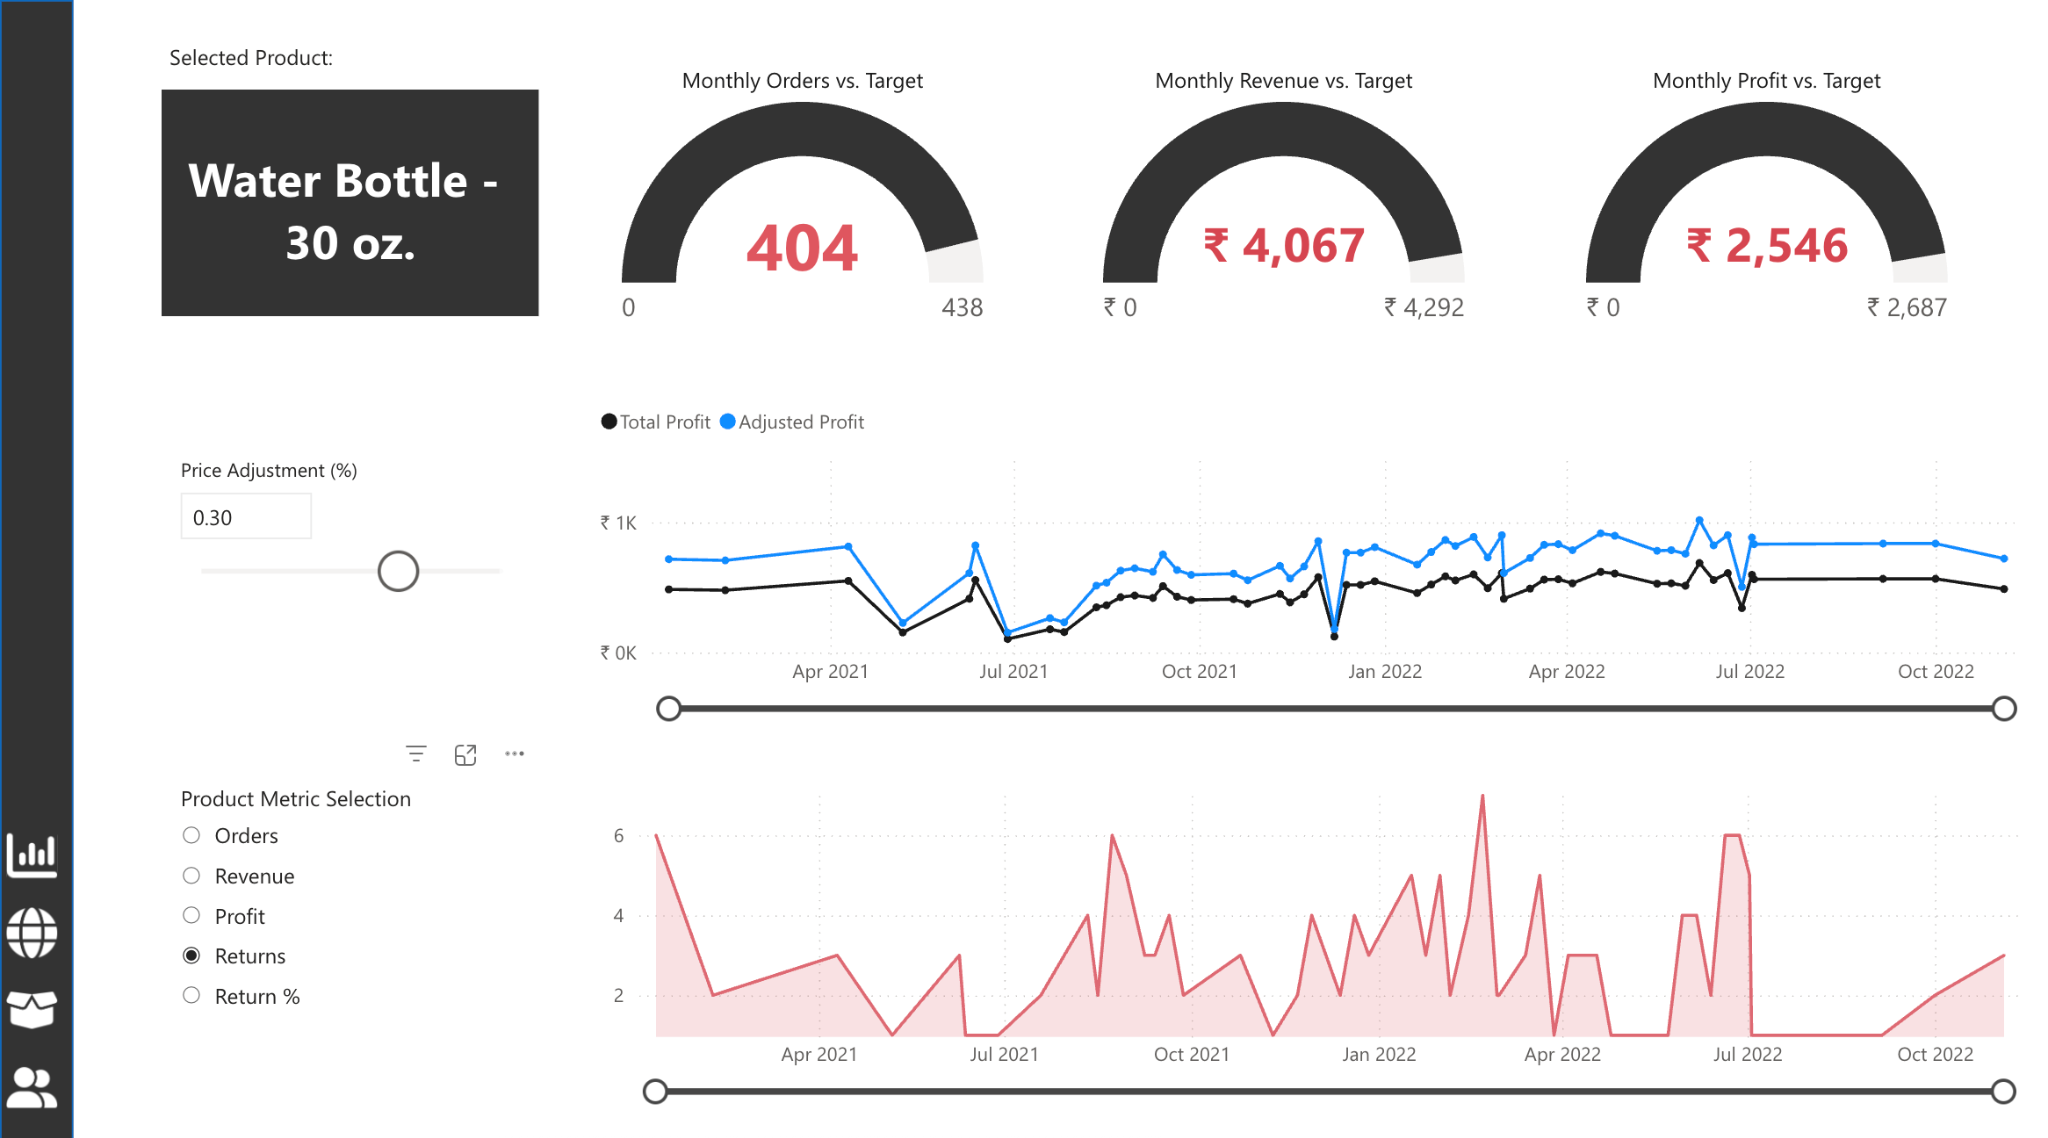

This screenshot's page, from the dashboard's own definition file:
{"tool":"powerbi","page":{"name":"Product Details","canvas":[1280,720],"ordinal":6},"visuals":[{"type":"shape","box":[0,0,45.8,719],"z":0},{"type":"actionButton","box":[0,513.9,45.8,39.8],"z":1000,"group":"g1"},{"type":"gauge","title":"Monthly Orders vs.  Target","fields":{"Y":["Measure Table.Total Orders"],"MaxValue":["Measure Table.Order Target"]},"box":[378.4,40.9,245.6,172.4],"z":1000},{"type":"gauge","title":"Monthly Revenue vs. Target","fields":{"Y":["Measure Table.Total Revenue"],"MaxValue":["Measure Table.Revenue Target"]},"box":[679.2,40.9,245.6,172.4],"z":2000},{"type":"actionButton","box":[0,610.4,45.8,39.8],"z":2000,"group":"g1"},{"type":"gauge","title":"Monthly Profit  vs.  Target","fields":{"MaxValue":["Measure Table.Profit Target"],"Y":["Measure Table.Total Profit"]},"box":[980,40.9,245.6,172.4],"z":3000},{"type":"actionButton","box":[0,658.7,45.8,39.8],"z":3000,"group":"g1"},{"type":"actionButton","box":[0,562.2,45.8,39.8],"z":4000,"group":"g1"},{"type":"lineChart","title":"Profit Trending","fields":{"Category":["Calendar Lookup.Date Hierarchy.Start of Year","Calendar Lookup.Date Hierarchy.Start of Month","Calendar Lookup.Date Hierarchy.Start of Week"],"Y":["Measure Table.Total Profit","Measure Table.Adjusted Profit"]},"box":[369.2,243.7,910.9,209.9],"z":4000},{"type":"areaChart","title":"Return Trending","fields":{"Y":["Measure Table.Return Rate"],"Category":["Calendar Lookup.Date Hierarchy.Start of Year","Calendar Lookup.Date Hierarchy.Start of Month","Calendar Lookup.Date Hierarchy.Start of Week"]},"box":[369.2,482.6,910.9,209.9],"z":5000},{"type":"card","fields":{"Values":["Min(Product Lookup.ProductName)"]},"box":[100.5,55.8,235.7,141.4],"z":6000},{"type":"textbox","box":[100.5,21.1,207.2,39.7],"z":7000},{"type":"group","id":"g1","title":"Navigation Buttons","box":[0,513.9,45.8,184.6],"z":8000},{"type":"slicer","fields":{"Values":["Price Adjustment (%).Price Adjustment (%)"]},"box":[100.1,279.9,235.3,137.5],"z":9000},{"type":"slicer","fields":{"Values":["Product Metric Selection.Product Metric Selection"]},"box":[100.1,483.8,235.3,158],"z":10000}]}

Visuals, with their boxes on the page's 1280x720 design canvas (x1, y1, x2, y2). These are canvas units, not pixel positions in the 2048x1138 screenshot, which may show the page scaled, cropped or inside an application window:
shape: pyautogui.locateOnScreen(0, 0, 46, 719)
actionButton: pyautogui.locateOnScreen(0, 514, 46, 554)
"Monthly Orders vs.  Target" gauge: pyautogui.locateOnScreen(378, 41, 624, 213)
"Monthly Revenue vs. Target" gauge: pyautogui.locateOnScreen(679, 41, 925, 213)
actionButton: pyautogui.locateOnScreen(0, 610, 46, 650)
"Monthly Profit  vs.  Target" gauge: pyautogui.locateOnScreen(980, 41, 1226, 213)
actionButton: pyautogui.locateOnScreen(0, 659, 46, 698)
actionButton: pyautogui.locateOnScreen(0, 562, 46, 602)
"Profit Trending" lineChart: pyautogui.locateOnScreen(369, 244, 1280, 454)
"Return Trending" areaChart: pyautogui.locateOnScreen(369, 483, 1280, 692)
card - Min(Product Lookup.ProductName): pyautogui.locateOnScreen(100, 56, 336, 197)
textbox: pyautogui.locateOnScreen(100, 21, 308, 61)
"Navigation Buttons" group: pyautogui.locateOnScreen(0, 514, 46, 698)
slicer - Price Adjustment (%).Price Adjustment (%): pyautogui.locateOnScreen(100, 280, 335, 417)
slicer - Product Metric Selection.Product Metric Selection: pyautogui.locateOnScreen(100, 484, 335, 642)
